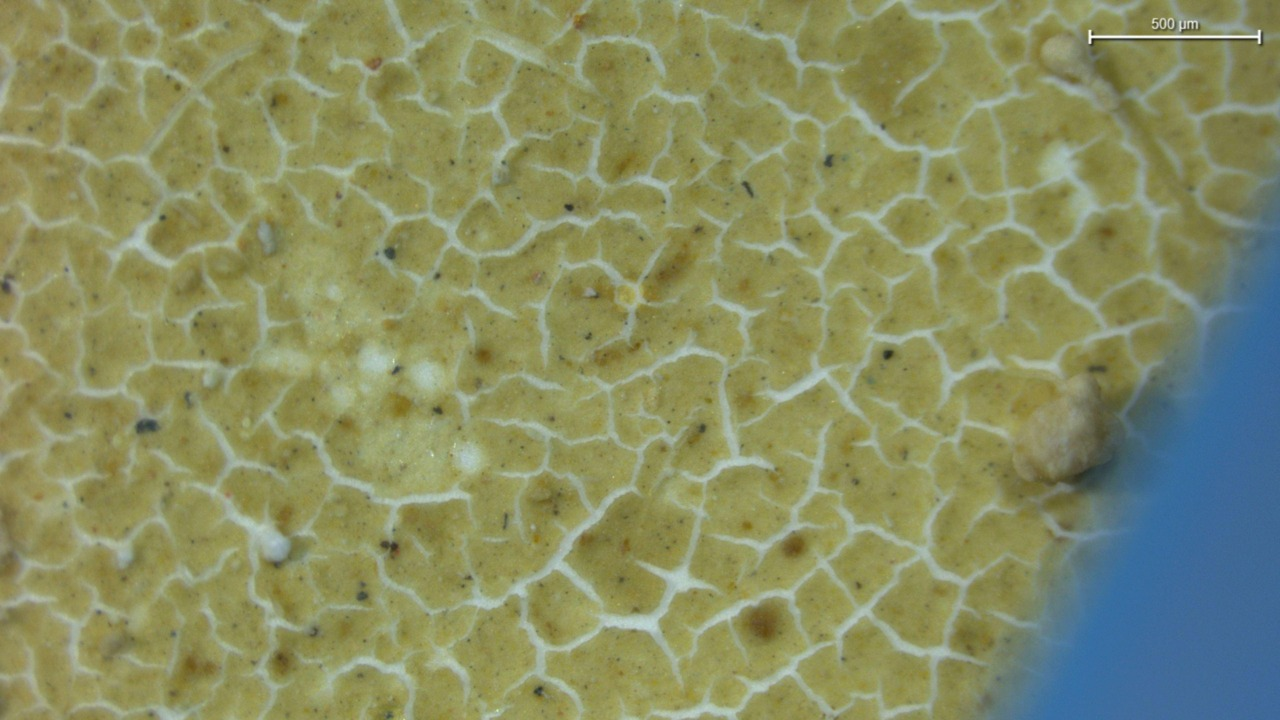microplastic_fragment: (1012, 373, 1113, 483), (260, 533, 291, 567)
